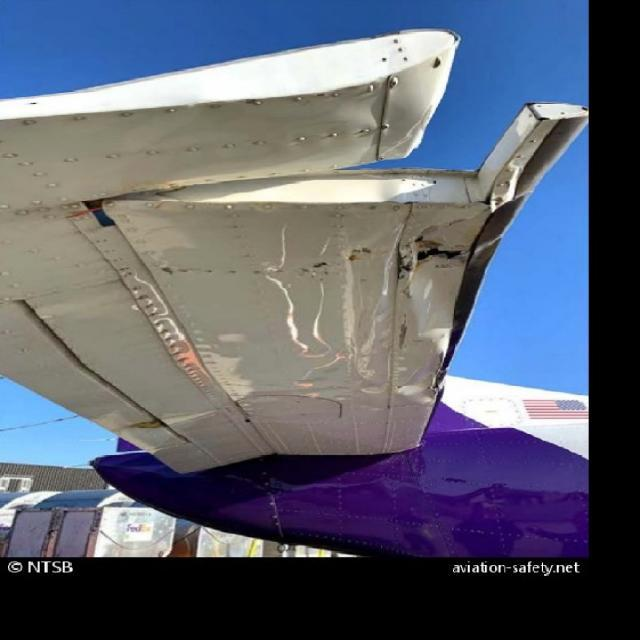dent: (392, 371, 427, 406)
